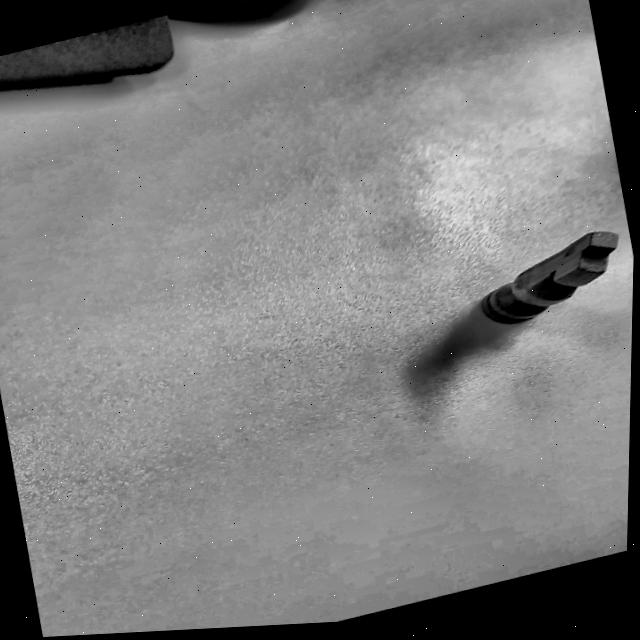black-knight: (458, 221, 634, 341)
